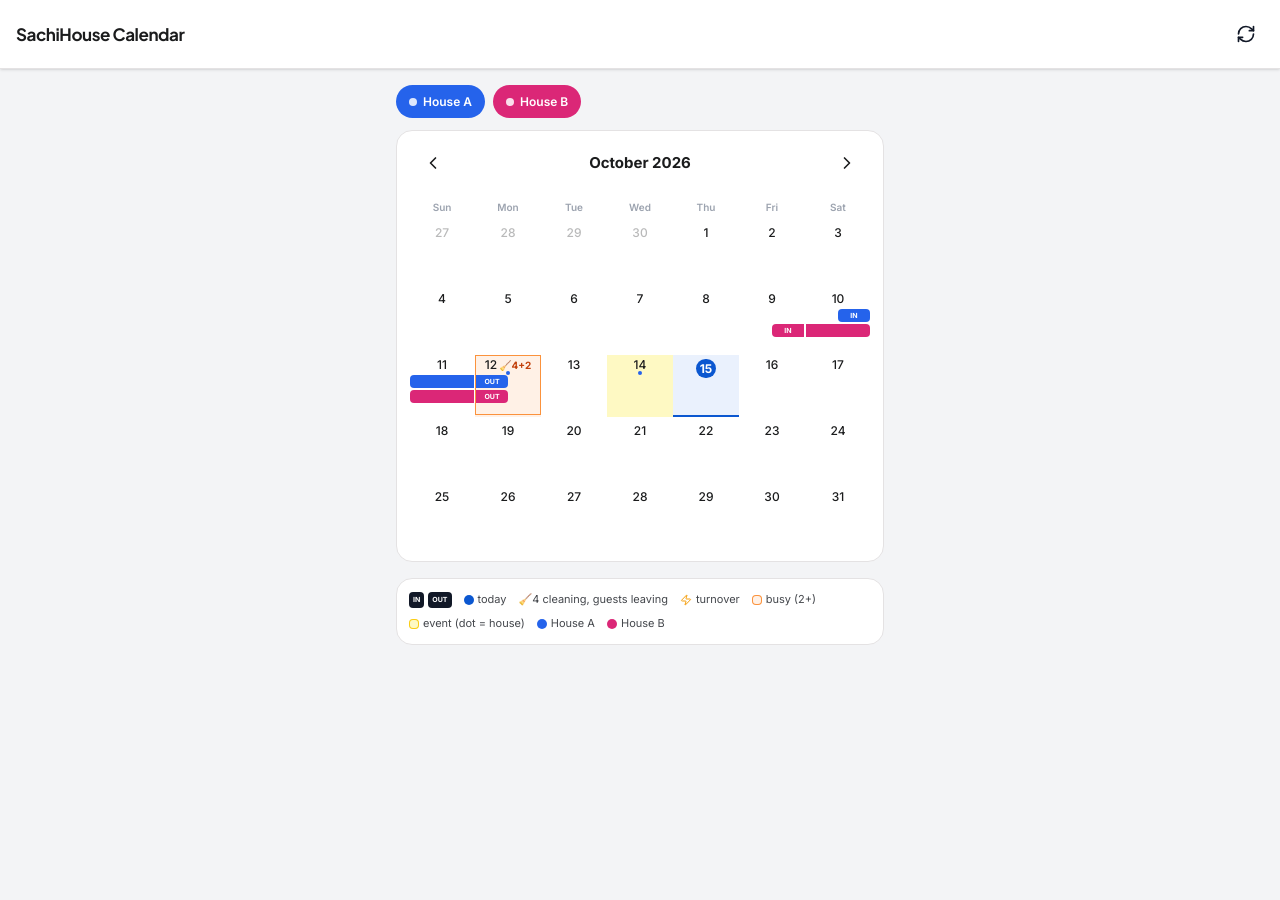
Test: CleaningCalendarPage — events are display only › 24: cleaning/busy unchanged by an event; event alone is no cleaning day; sheet order
Click the button "12 🧹 4+2 Out Out" at (508, 386), box x1=475 y1=355 x2=541 y2=417
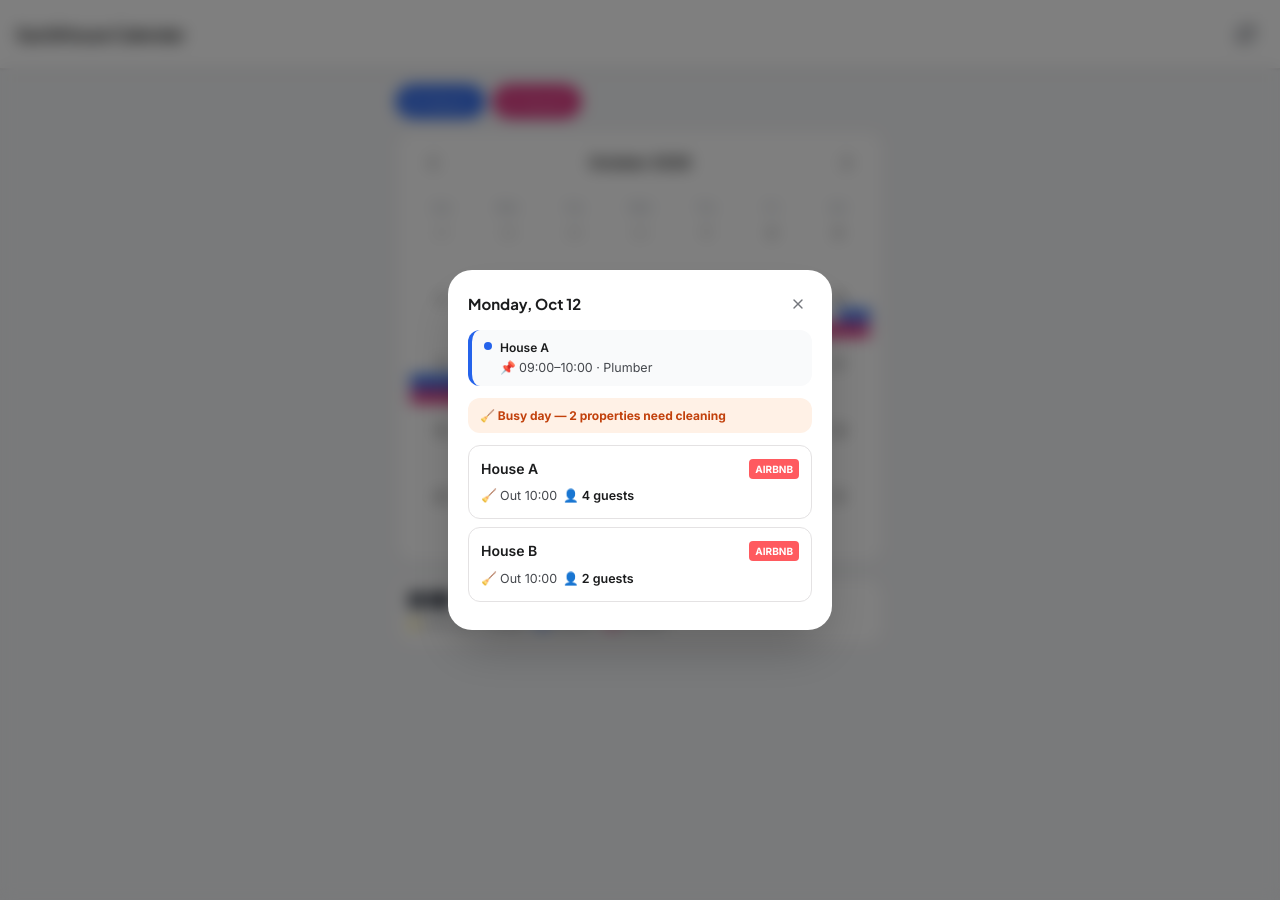
Expected: the element showing "House A 📌 09:00–10:00 · Plumber" is shown, x1=468 y1=330 x2=812 y2=386
Expected: the text "🧹 Out 10:00" is shown 2 times, x1=481 y1=486 x2=557 y2=506; x1=481 y1=569 x2=557 y2=589
